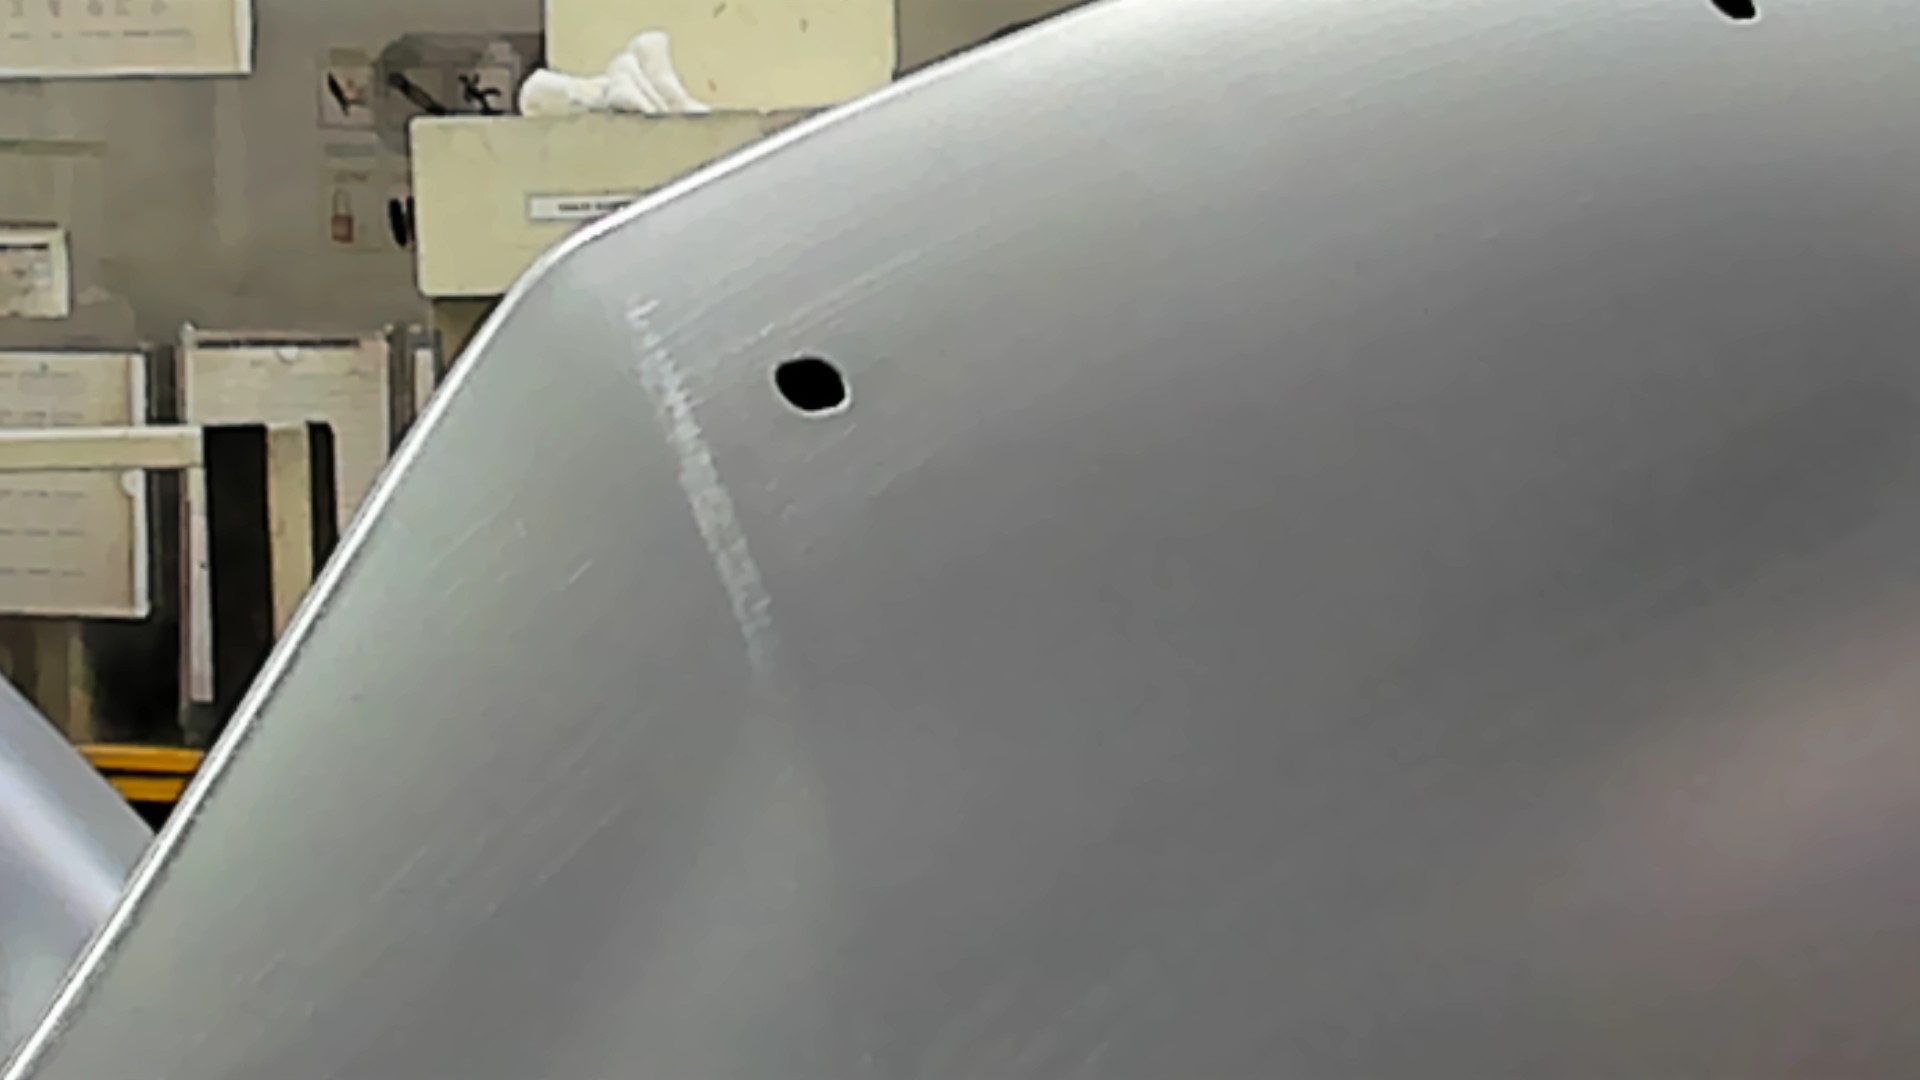amorfo: (766, 349, 858, 422), (1705, 1, 1763, 28)
